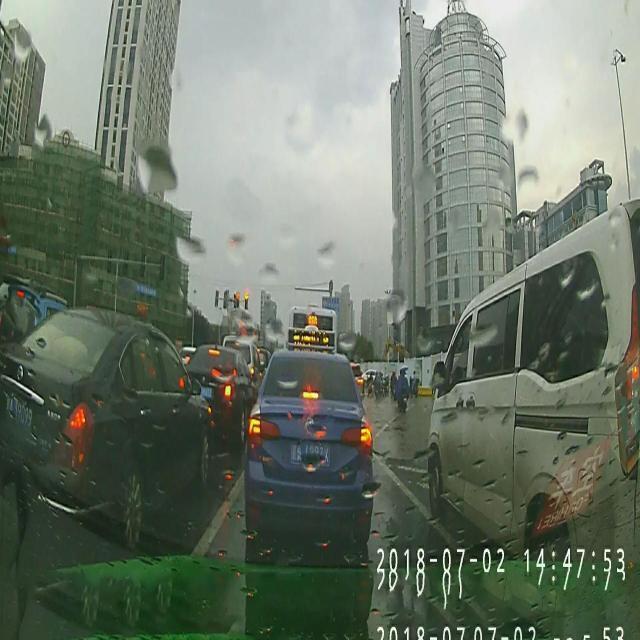car: (426, 203, 638, 588), (0, 307, 212, 542), (245, 352, 372, 550), (185, 346, 253, 444)
